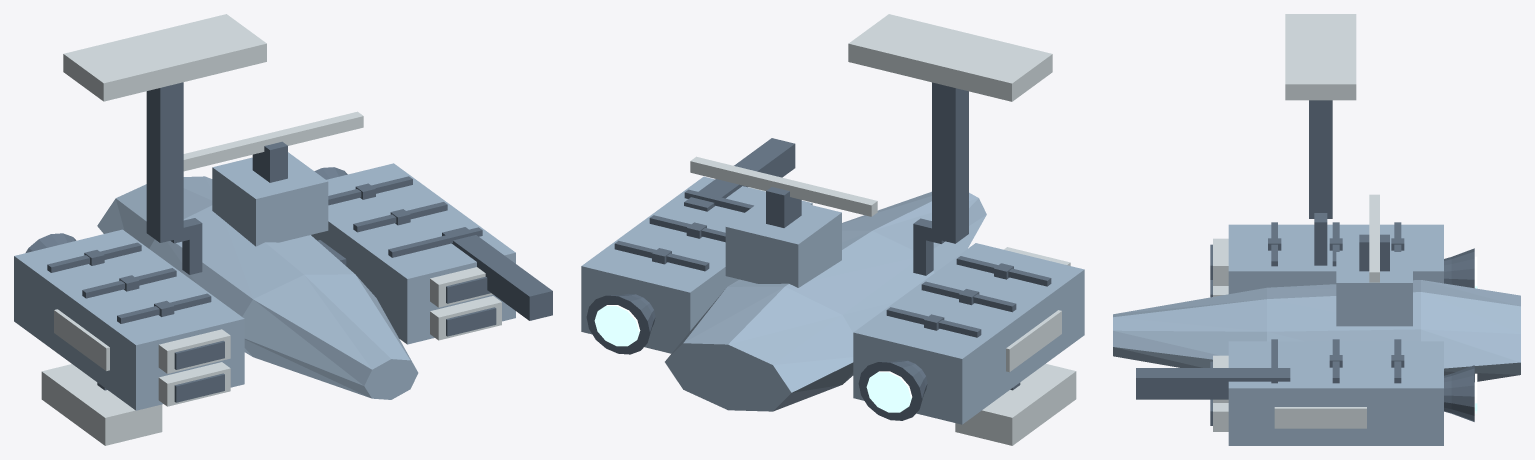
3 renders of one model, left to right at view 1: azimuth 30°, elevation 25°; view 2: azimuth 150°, elevation 25°; view 3: azimuth 270°, elevation 25°, orthographic. The views are drawn at different scales.
Size of the model in its own units: 13.54 by 11.5 by 13.72.
